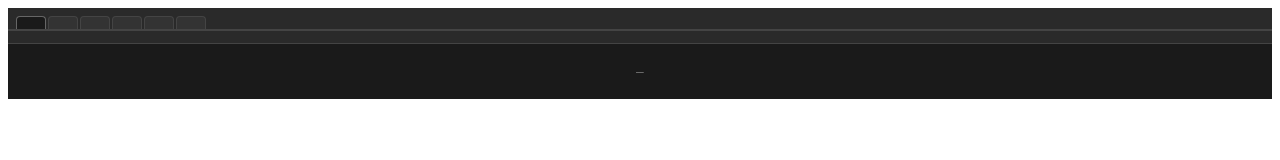
Scenario: View › tabs tab
What coordinates should you click on to do the following:
click the 6th button
I would click on:
 (191, 22)
Its box is [176,16,206,29].
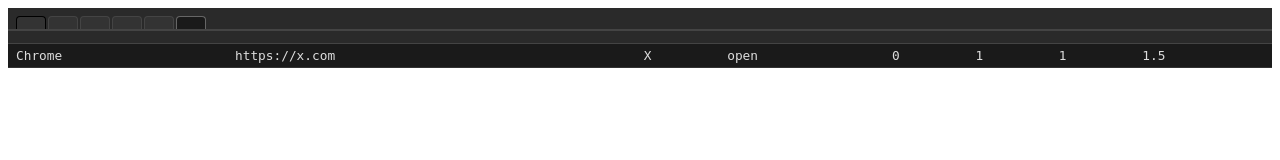
Expected: the text "https://x.com" is shown, [227,44,636,68]
